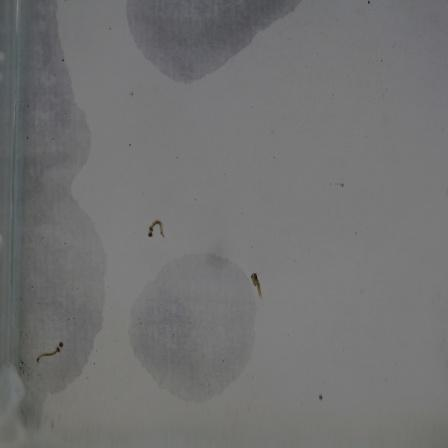Jentik-Nyamuk: (32, 336, 68, 369), (248, 269, 266, 307), (141, 217, 167, 242)
